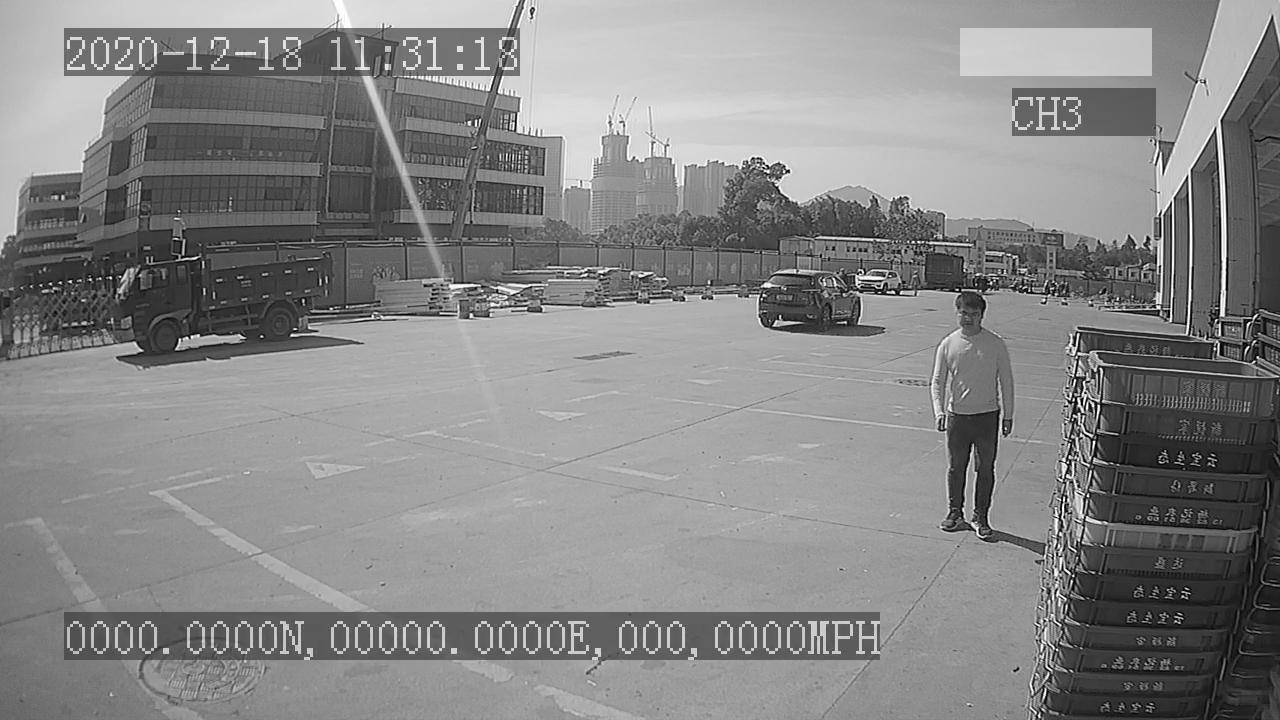person: (924, 290, 1016, 540)
